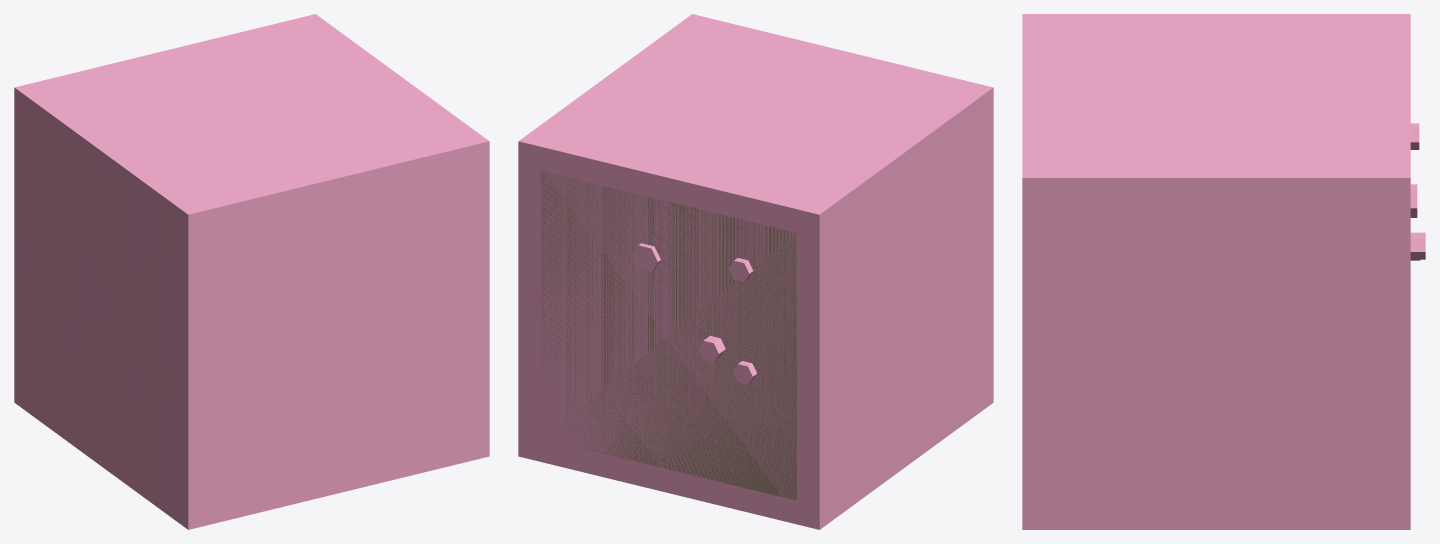
The model's file is 48_rose_coral.glb.
The picture shows the model from 3 angles, left to right: view 1: azimuth 30°, elevation 25°; view 2: azimuth 150°, elevation 25°; view 3: azimuth 270°, elevation 25°; orthographic projection. The views are drawn at different scales.
Parts seen in each view (by area): view 1: Core; view 2: Core, Soil, Coral_5; view 3: Core.
Part boxes in pixels (x1=…): Core: x1=14, y1=14, x2=489, y2=529; Core: x1=518, y1=14, x2=993, y2=529; Soil: x1=541, y1=170, x2=796, y2=500; Coral_5: x1=631, y1=243, x2=660, y2=272; Core: x1=1022, y1=14, x2=1410, y2=529.
Bounding box in the file's own units: 1 × 1 × 1.04.
